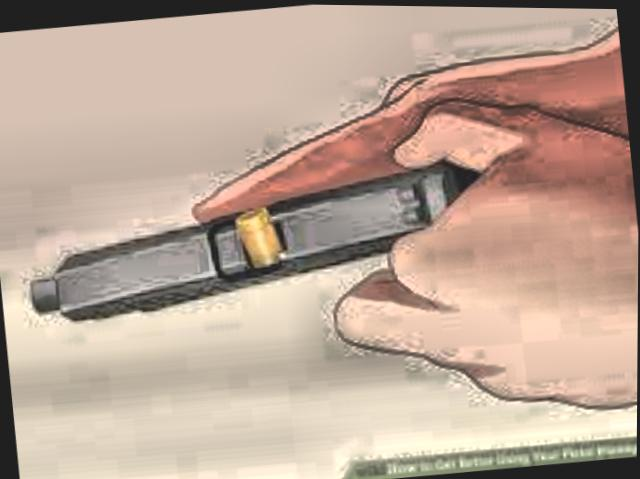pistol: (0, 127, 513, 344)
